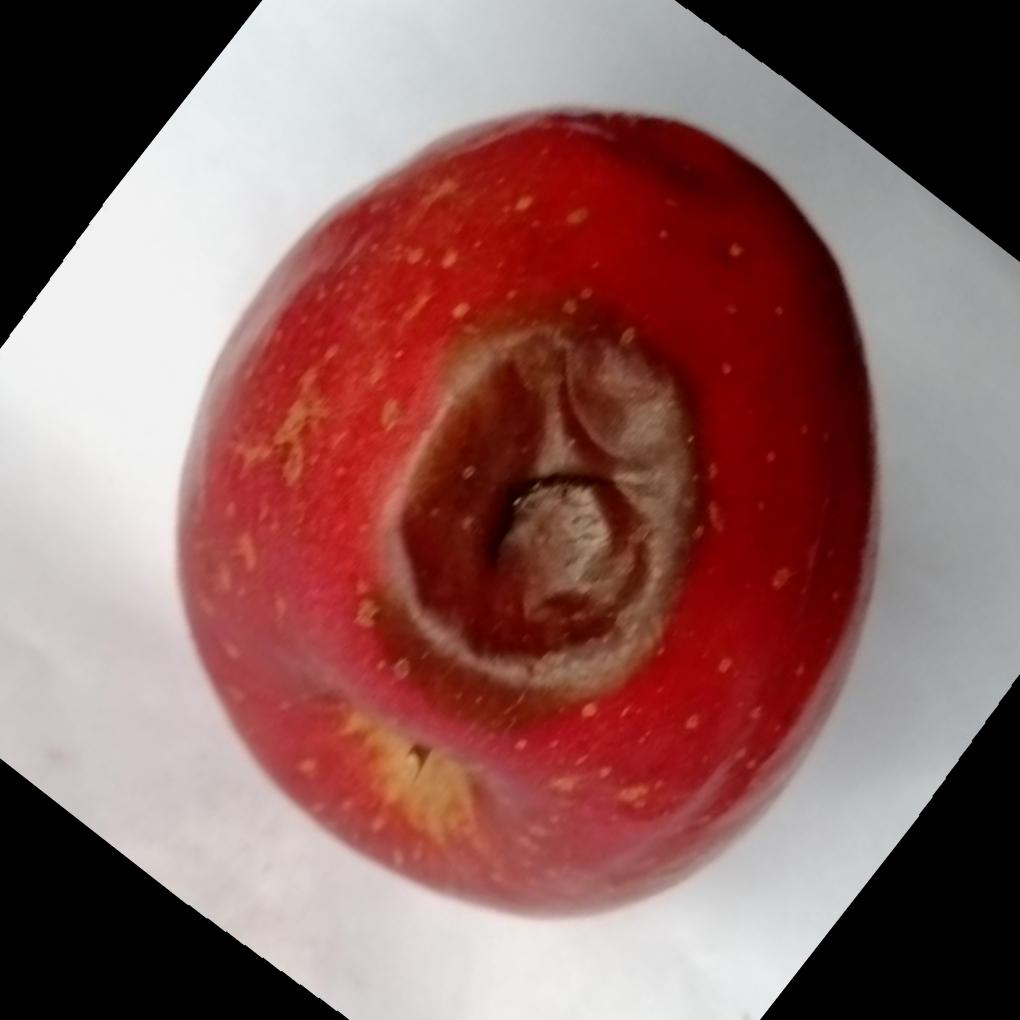FreshOrange: (174, 106, 881, 922)
